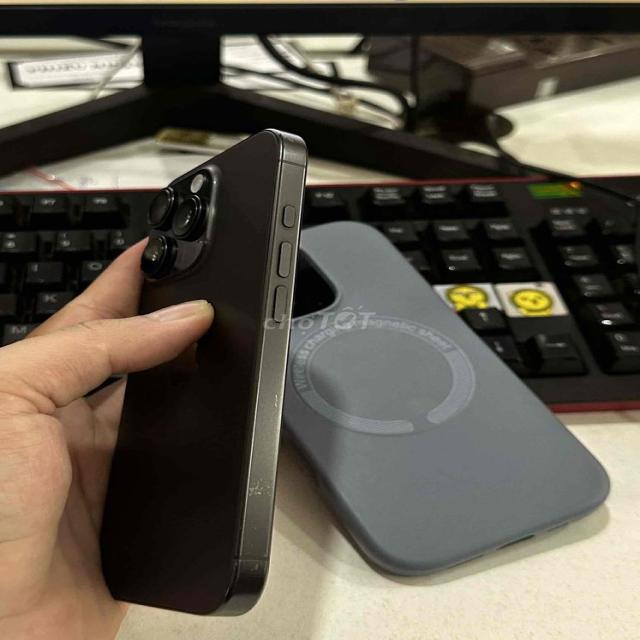gen_16: (102, 130, 307, 614)
